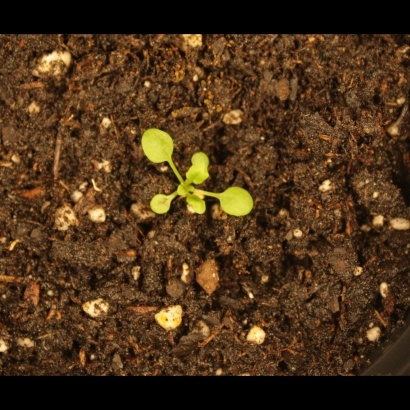leaf: (139, 127, 181, 166), (216, 182, 259, 219), (185, 147, 215, 185), (145, 185, 174, 220), (179, 191, 211, 219)
